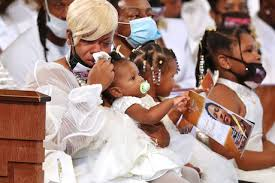mask_weared_incorrect: (242, 44, 274, 82), (80, 37, 113, 71), (49, 1, 69, 34)
with_mask: (125, 5, 156, 40), (218, 2, 251, 23)
without_mask: (123, 67, 152, 96), (207, 104, 231, 126), (165, 66, 181, 95)
